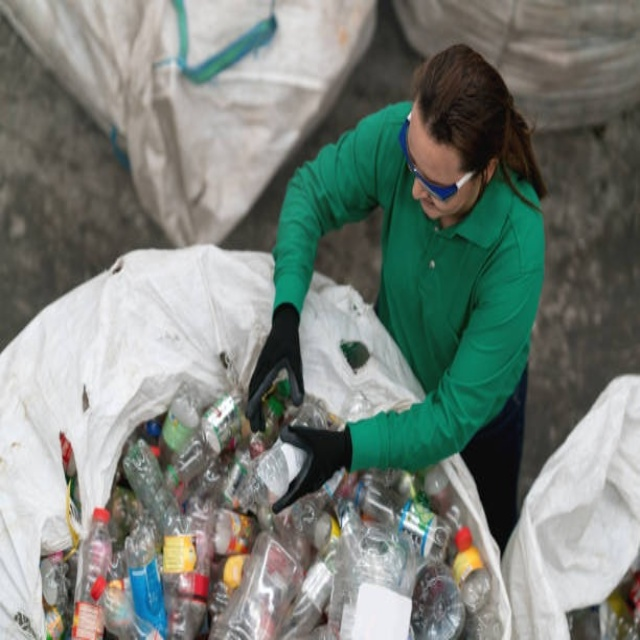Gafas: (402, 114, 478, 201)
Guantes: (269, 421, 351, 513), (246, 304, 304, 432)
